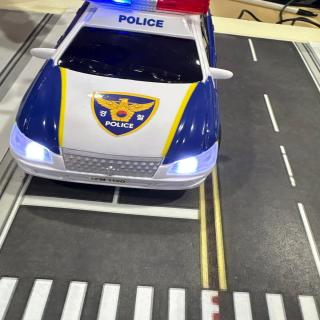Police_car: (9, 0, 232, 189)
